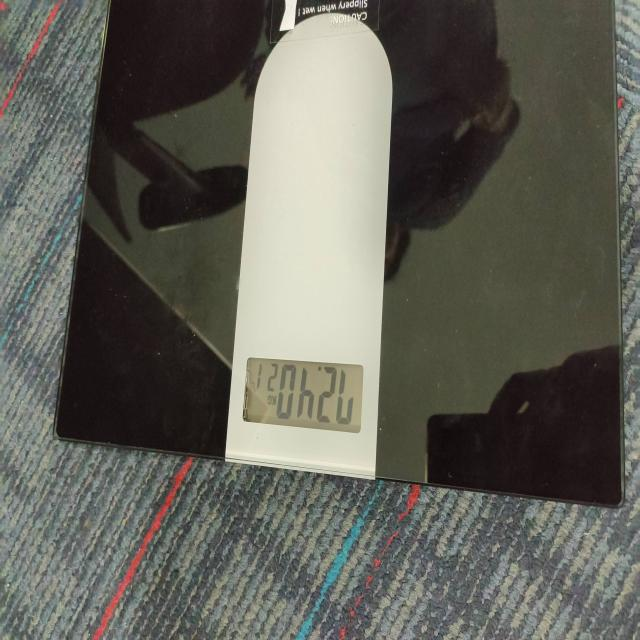ws: (223, 10, 395, 482)
